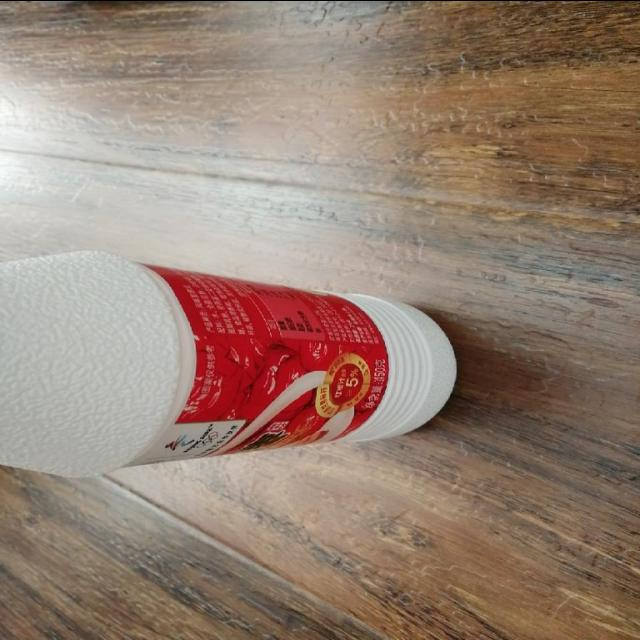-Recyclables - plastic bottle-: (4, 240, 460, 473)
